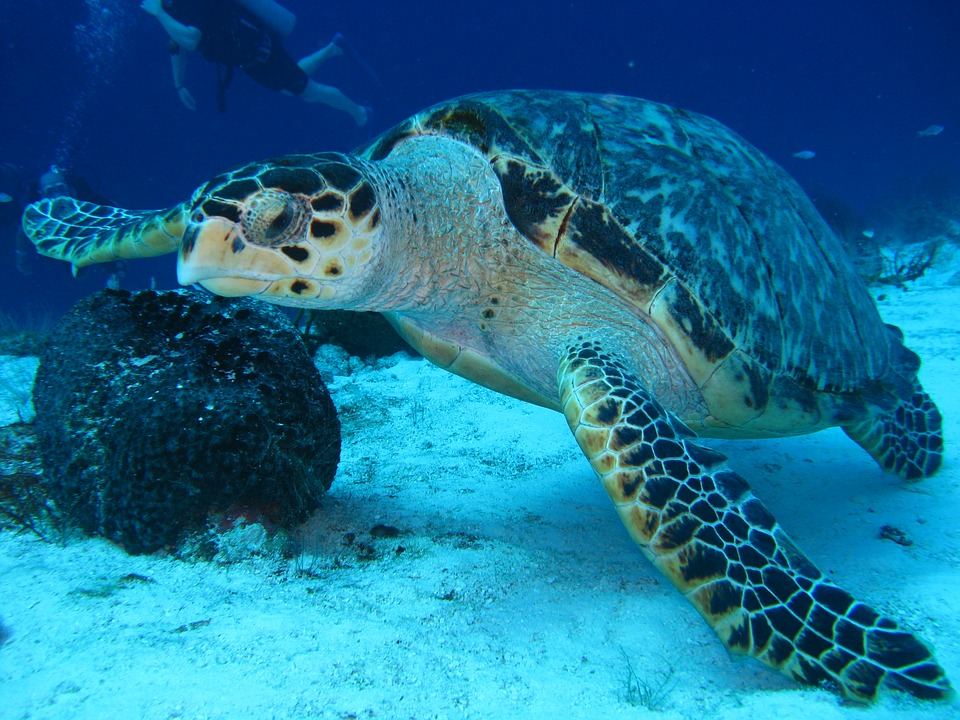trutle: (49, 108, 940, 700)
